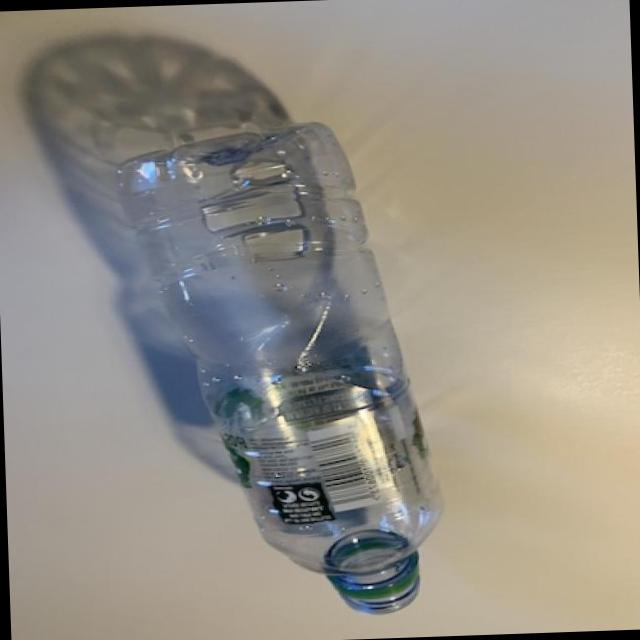plastic_bottle: (116, 118, 452, 625)
